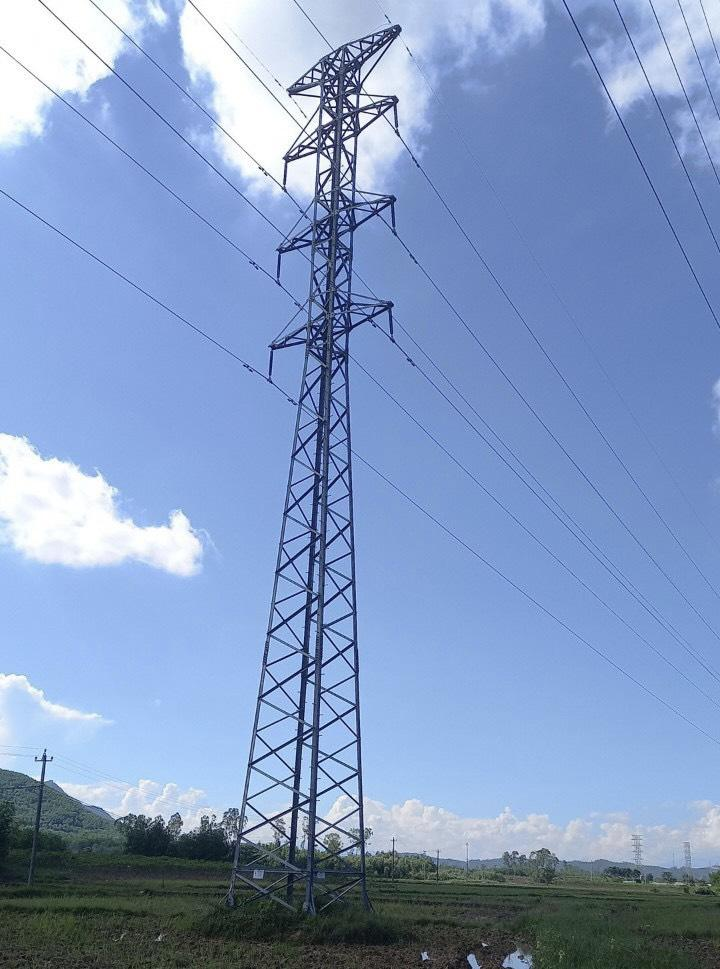power_tower: (236, 26, 377, 913)
